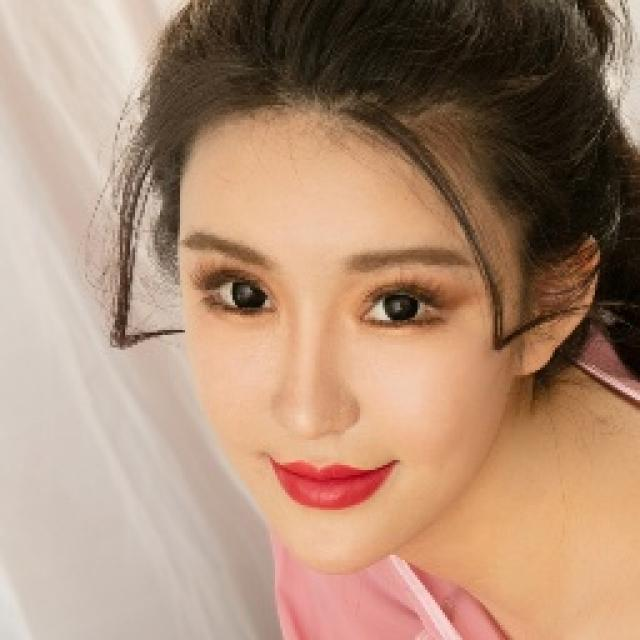earlobe: (511, 339, 551, 375)
eye: (203, 272, 275, 315), (356, 291, 432, 326)
nose: (275, 421, 357, 455)
wholeear: (513, 229, 603, 377)
